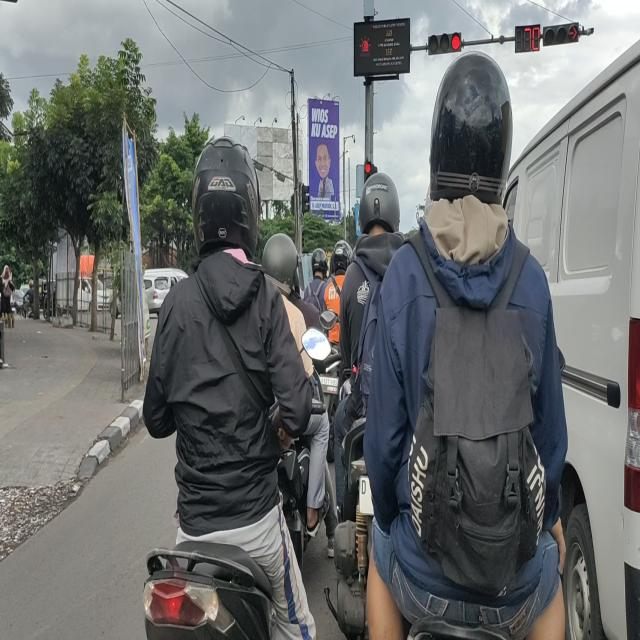helmet: (432, 45, 511, 206), (195, 136, 259, 250), (360, 178, 400, 241), (267, 236, 297, 286), (310, 246, 328, 284), (332, 241, 351, 272)
